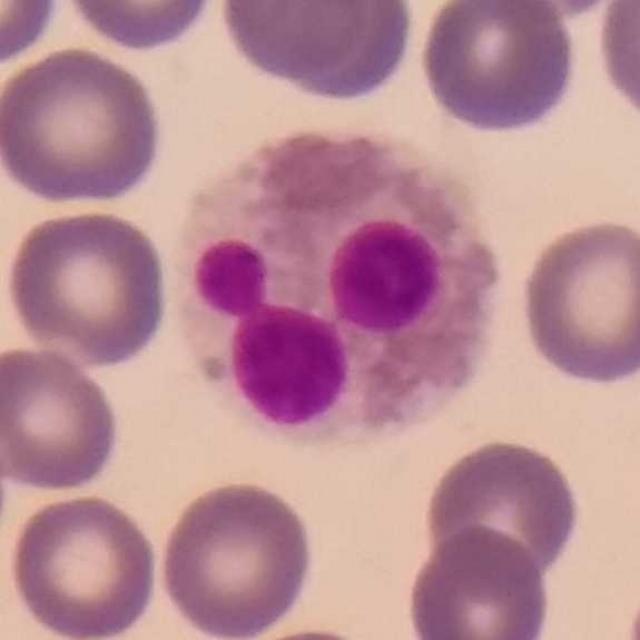eosino: (173, 125, 501, 449)
